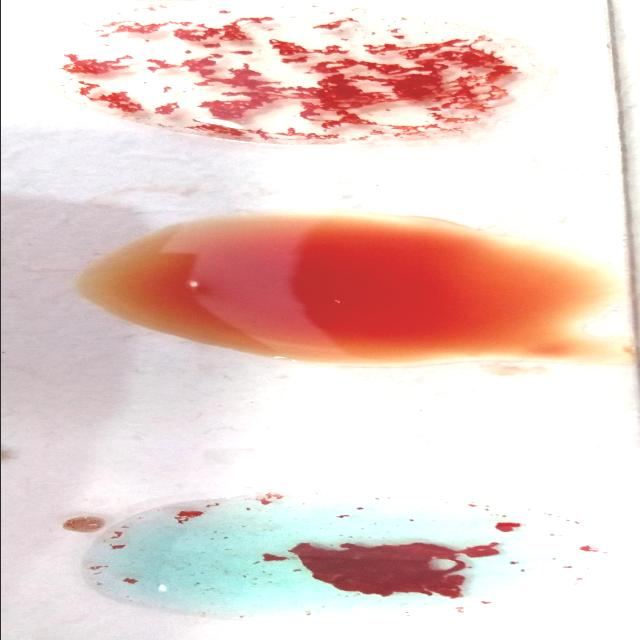A: (71, 492, 602, 622)
D: (41, 10, 531, 140)
